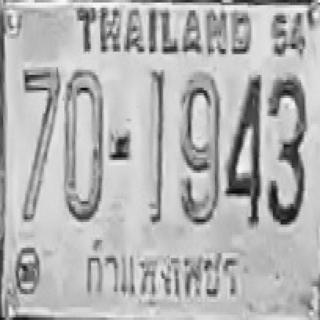N00: (63, 67, 104, 222)
N01: (147, 71, 165, 223), (149, 71, 165, 223), (151, 68, 165, 223)
N03: (267, 75, 307, 225)
N04: (224, 72, 262, 225)
N07: (20, 66, 60, 221)
N09: (180, 72, 220, 225)
P16: (80, 236, 240, 300)
